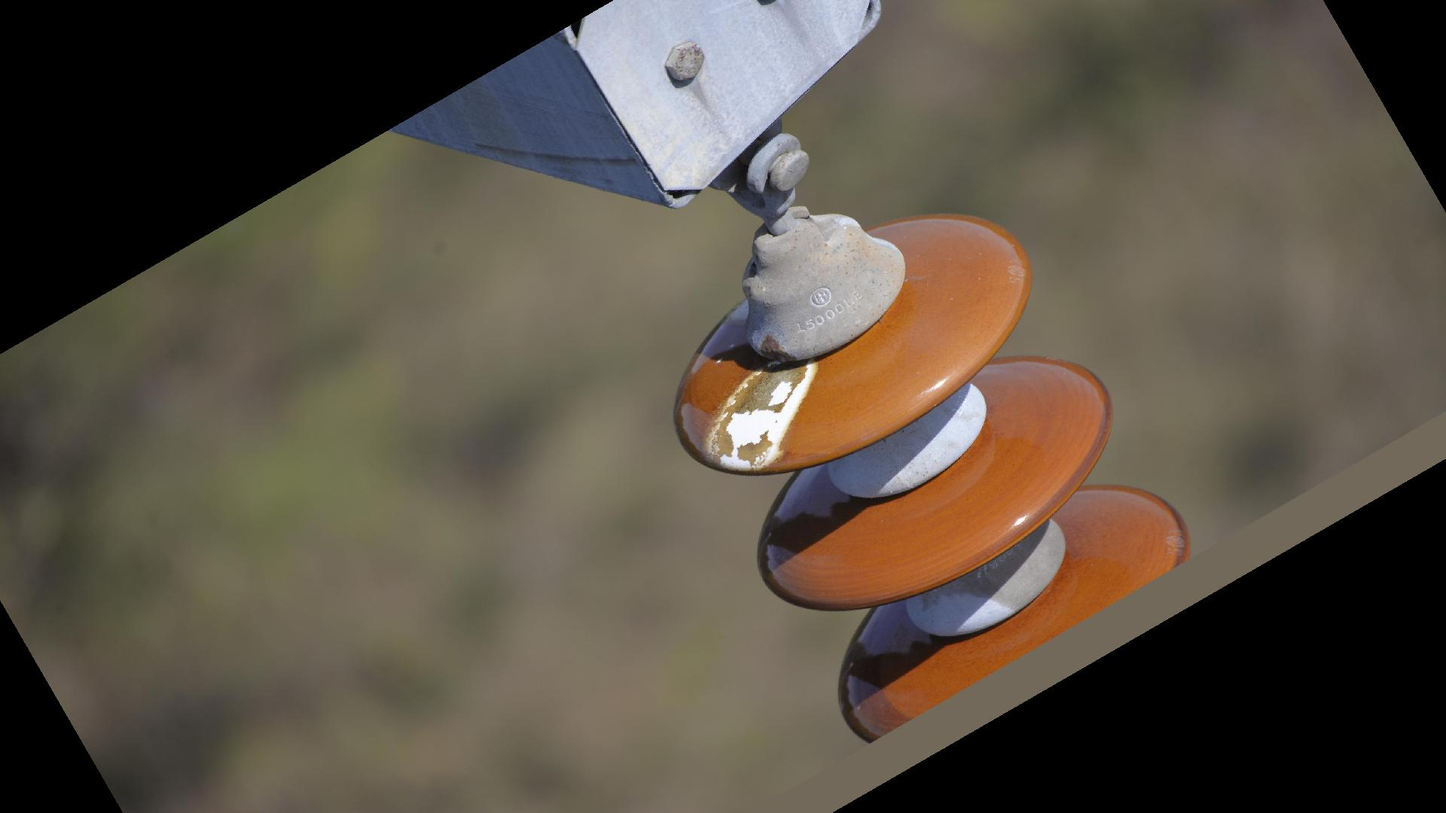insulator: (666, 206, 1205, 744)
insulator_flashover: (693, 355, 819, 480)
